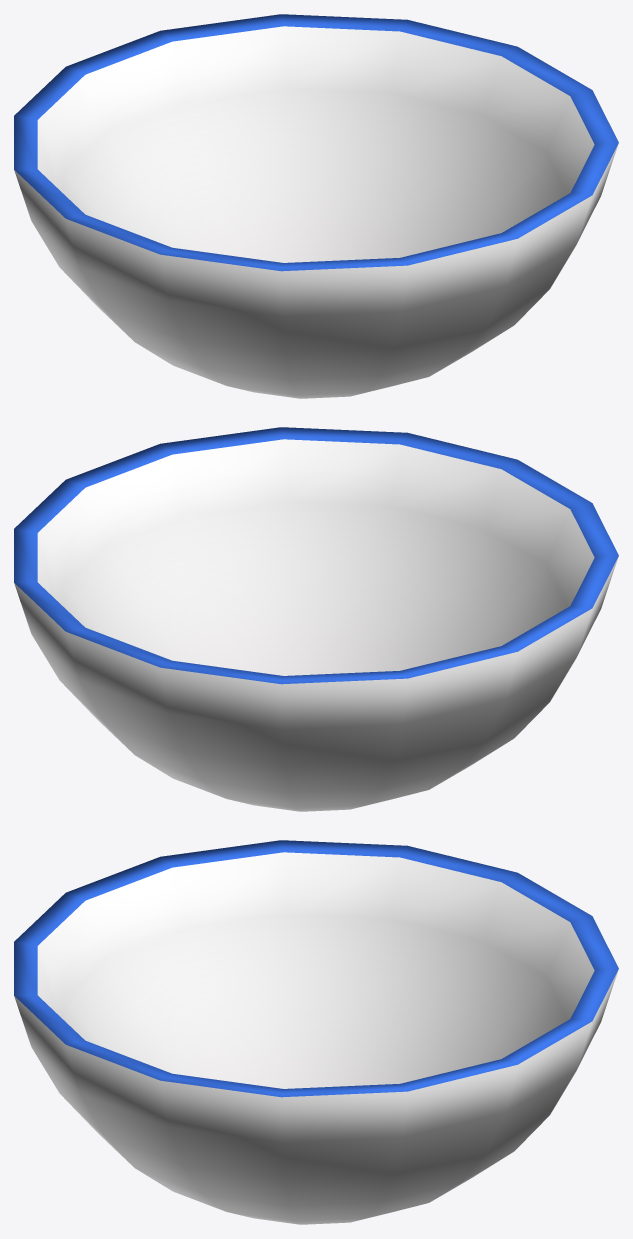
The model's file is PlateBol.fbx.
The picture shows the model from 3 angles, top to bottom: view 1: azimuth 30°, elevation 25°; view 2: azimuth 150°, elevation 25°; view 3: azimuth 270°, elevation 25°; orthographic projection.
Parts seen in each view (by area): view 1: Bool; view 2: Bool; view 3: Bool.
Part boxes in pixels (x1,y1,x2,y2): Bool: (14, 14, 618, 398); Bool: (14, 427, 618, 811); Bool: (14, 840, 618, 1224).
Bounding box in the file's own units: 95.95 × 39.59 × 95.42.
